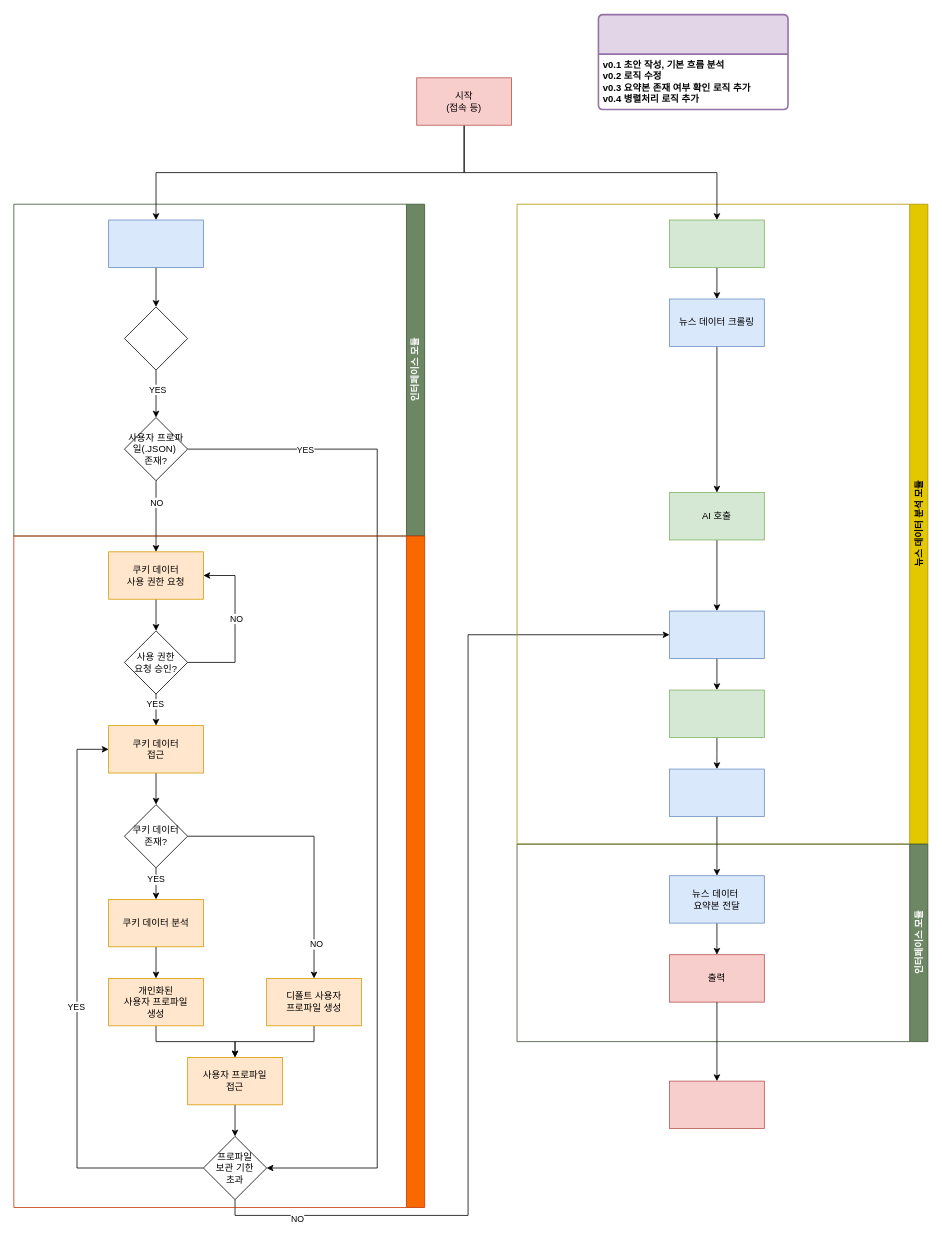
Image size: 942x1237. Some labels were removed from this diagram. The box of each missing label's shape, as (x1, y1, x2, y2) in pixels:
기존의 뉴스데이터 요약본 확인: (108, 219, 203, 267)
뉴스 데이터 요약본 생성 (Langchain 재질의 체인): (669, 768, 764, 816)
사용자 파일 프로파일 기반 뉴스 데이터 요약 (Langchain 요약체인): (669, 610, 764, 658)
생성된지 3시간 이상?: (124, 306, 188, 370)
시스템 모듈: (13, 535, 425, 1208)
외부 API 호출 (AI, 뉴스 API): (669, 219, 764, 267)
요약된 내용을 바탕으로 재질의: (669, 689, 764, 737)
이력 관리: (597, 13, 788, 110)
종료: (669, 1080, 764, 1129)
